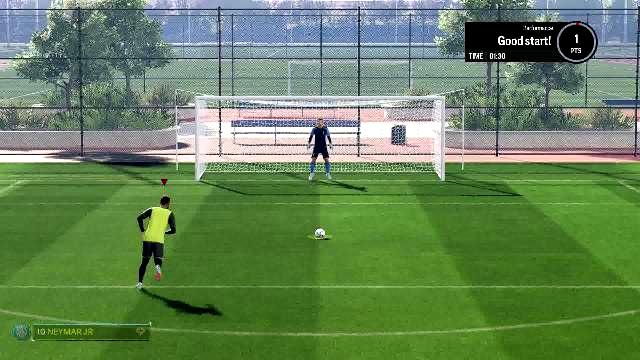bottom-left: (200, 144, 276, 180)
bottom-right: (359, 143, 439, 181)
center-down: (276, 142, 360, 180)
center-up: (280, 100, 362, 142)
circle: (309, 236, 331, 238)
football: (315, 229, 327, 239)
goalkeeper: (305, 117, 339, 181)
player: (132, 193, 178, 292)
top-left: (203, 102, 281, 142)
top-right: (362, 102, 442, 142)
